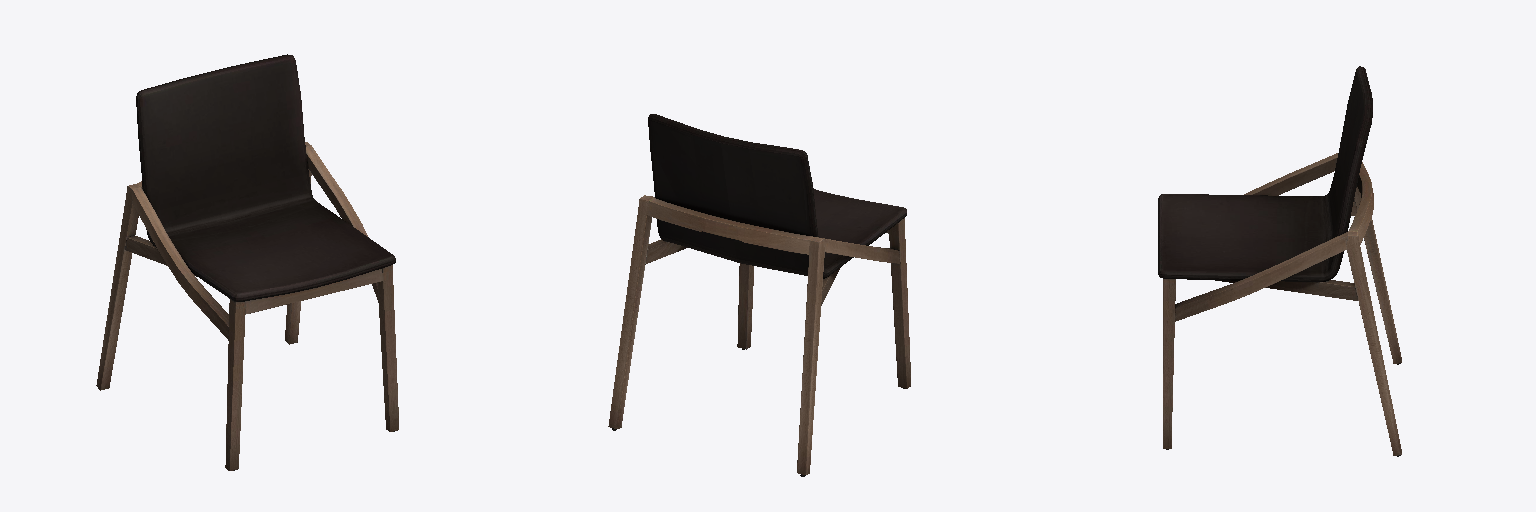
The picture shows the model from 3 angles: view 1: azimuth 30°, elevation 25°; view 2: azimuth 150°, elevation 25°; view 3: azimuth 270°, elevation 25°; orthographic projection.
Visible parts, largest first — view 1: Capita_510T; view 2: Capita_510T; view 3: Capita_510T.
Boxes of the visible parts, box(x1,y1,x2,y2) form: Capita_510T: box(96, 54, 398, 470); Capita_510T: box(608, 114, 910, 476); Capita_510T: box(1158, 66, 1401, 456).
Bounding box in the file's own units: 0.9932 × 1.48 × 1.06.
1 materials, 1 textured.